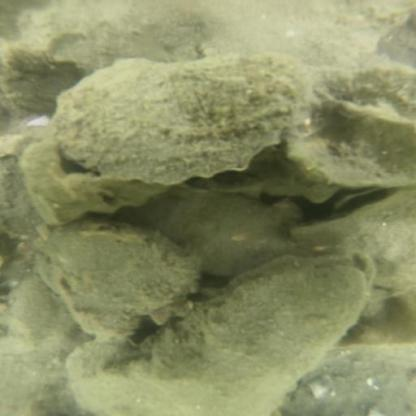Oyster- Indeterminate: (147, 249, 373, 403)
Oyster-Closed: (49, 56, 314, 181), (37, 225, 195, 336), (130, 194, 285, 276), (295, 188, 413, 292)
